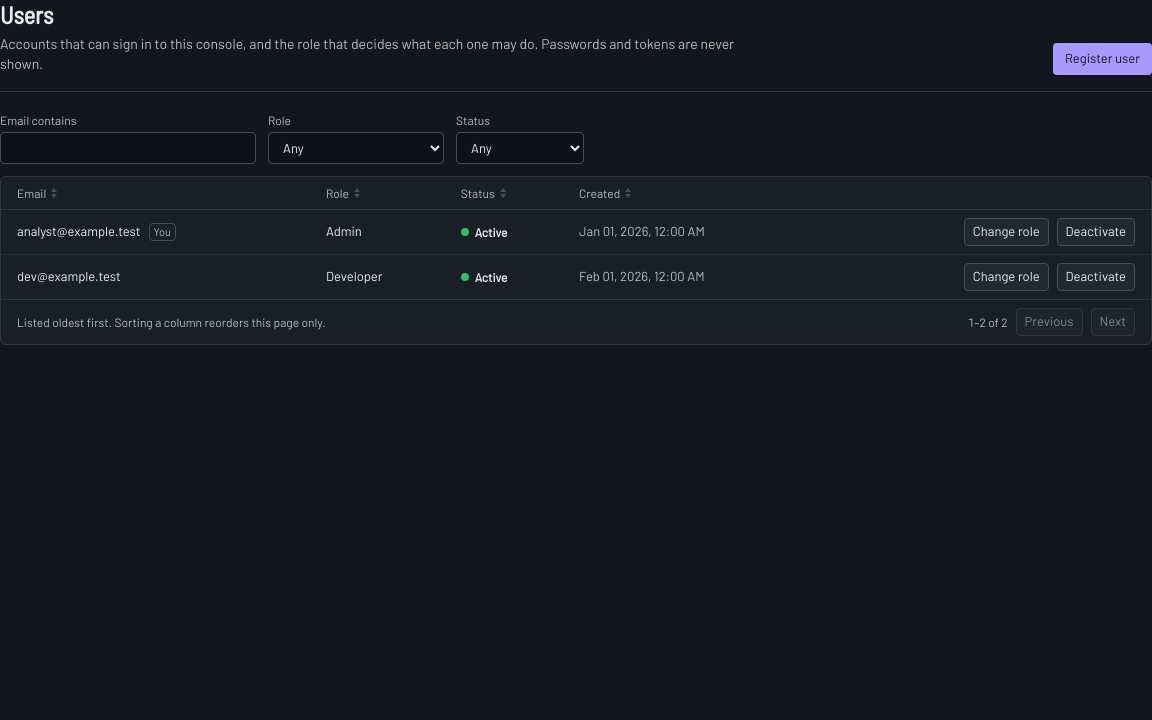
Test case: Users › does not send a role change that changes nothing
What coordinates should you click on to do the following:
click the button with aria-label "Change role for dev@example.test"
I would click on:
 (1006, 277)
Its box is [964,263,1049,291].
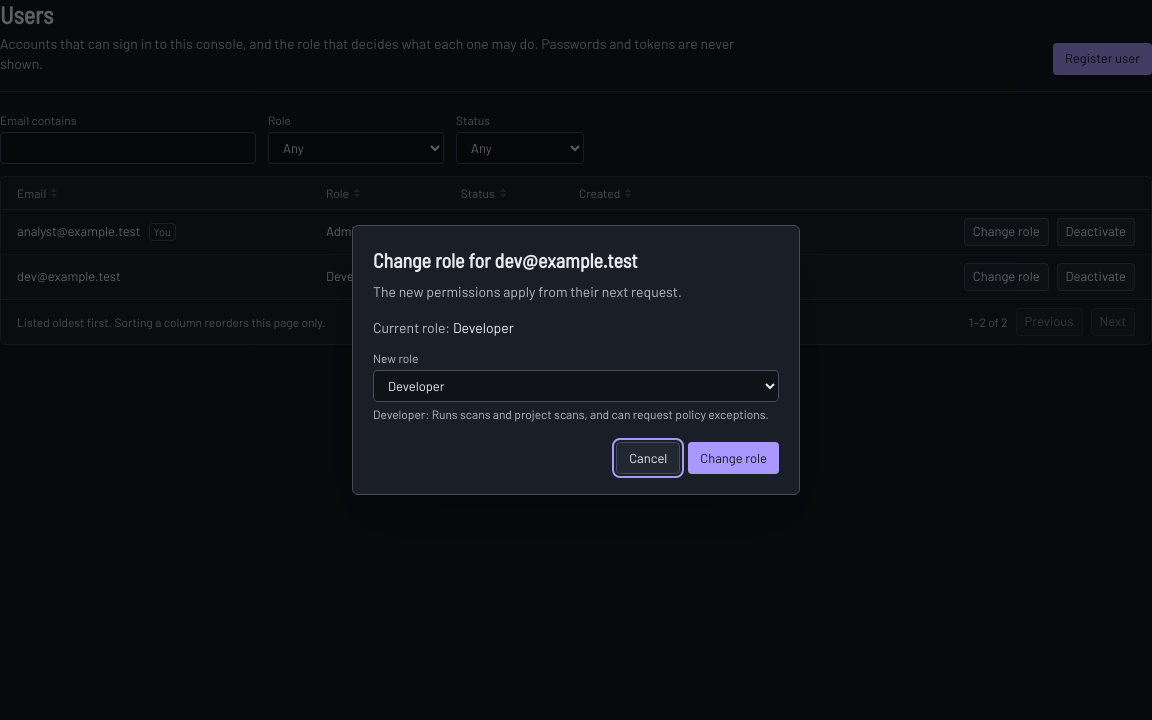
What coordinates should you click on to do the following:
click the button "Change role"
I would click on:
 (734, 458)
Its box is [688,442,779,474].
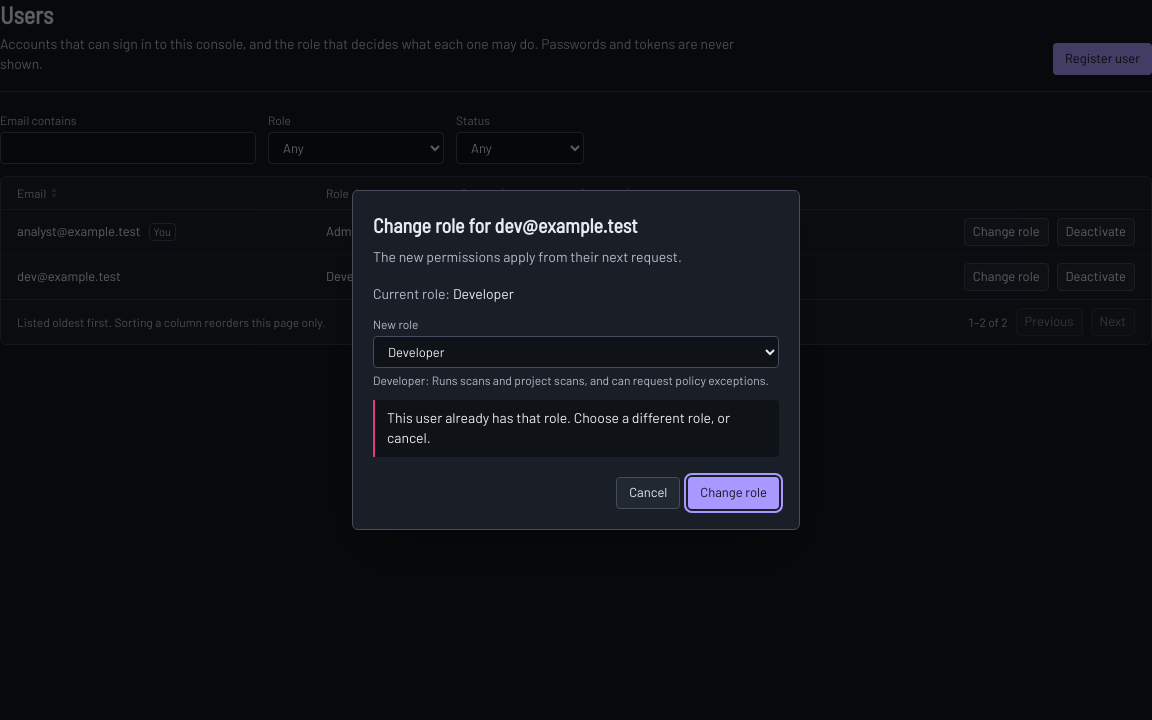
Result: the message shows "This user already has that role." at [387,409,730,446]
